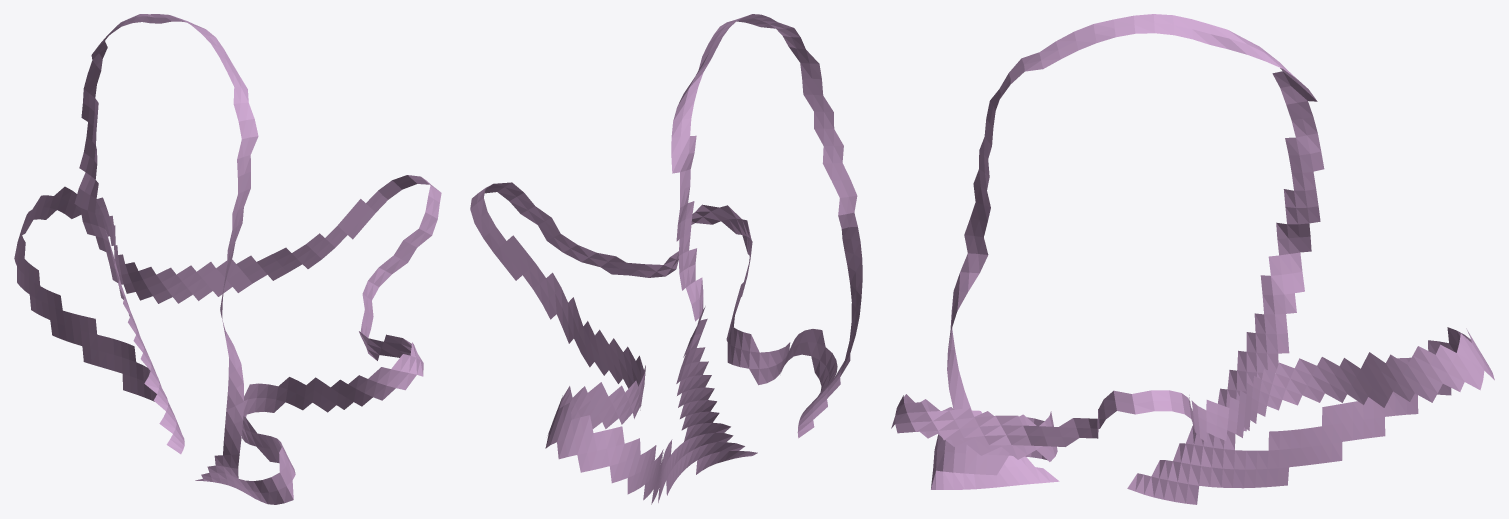
The model's file is selected_mesh3.obj.
The picture shows the model from 3 angles, left to right: view 1: azimuth 30°, elevation 25°; view 2: azimuth 150°, elevation 25°; view 3: azimuth 270°, elevation 25°; orthographic projection. The views are drawn at different scales.
Bounding box in the file's own units: 0.2983 × 0.4122 × 0.4668.
